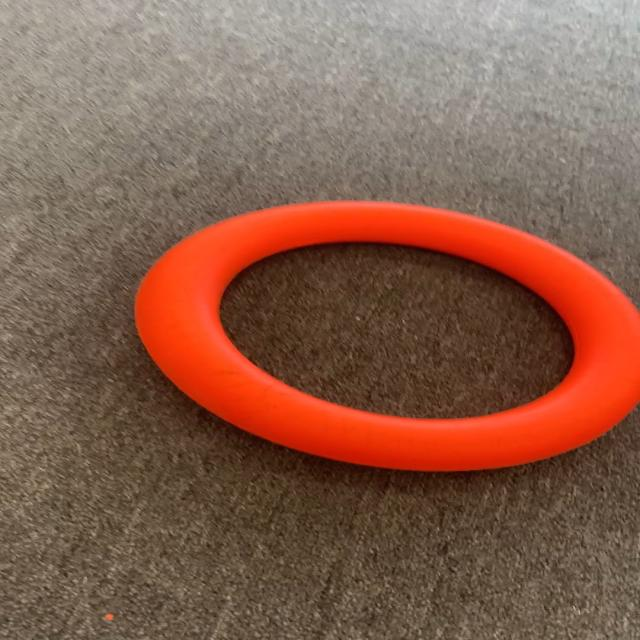notes: (135, 199, 640, 473)
